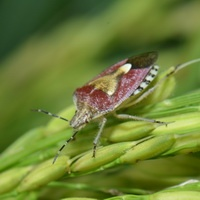insect: (32, 51, 158, 163)
